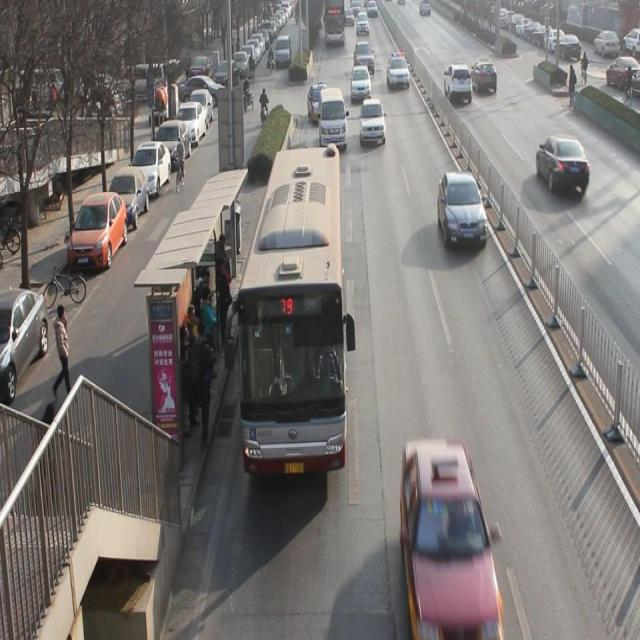car: (403, 444, 502, 630), (439, 173, 486, 250), (538, 132, 591, 199), (470, 56, 500, 99), (361, 99, 386, 146), (445, 62, 472, 103), (305, 83, 331, 122), (387, 51, 412, 91), (348, 67, 372, 104), (354, 42, 376, 74)
truck: (319, 89, 347, 150)
van: (236, 147, 344, 474), (322, 1, 343, 45)
